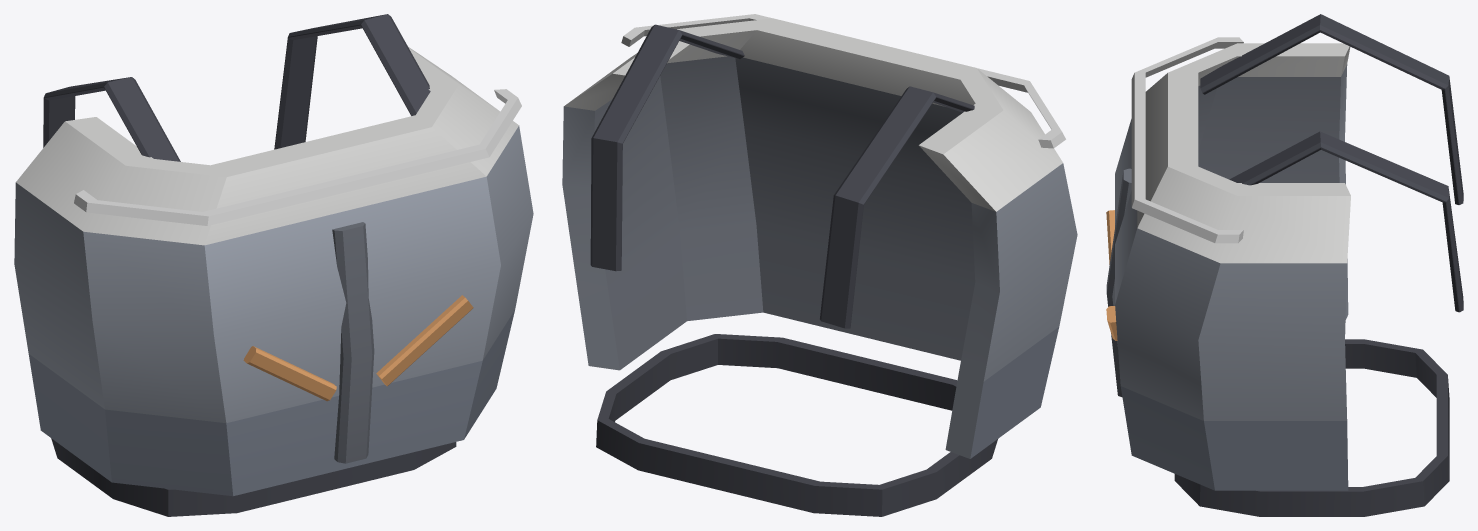
Rendered from gear_plastron.glb.
3 renders of one model, left to right at view 1: azimuth 30°, elevation 25°; view 2: azimuth 150°, elevation 25°; view 3: azimuth 270°, elevation 25°, orthographic. The views are drawn at different scales.
Visible parts, largest first — view 1: torso__plastron, torso__plastron_glow; view 2: torso__plastron, torso__plastron_glow; view 3: torso__plastron, torso__plastron_glow.
Boxes of the visible parts, <box> form: torso__plastron: <box>14,14,533,516</box>; torso__plastron_glow: <box>74,89,521,225</box>; torso__plastron: <box>562,18,1077,516</box>; torso__plastron_glow: <box>621,14,1065,148</box>; torso__plastron: <box>1106,14,1463,516</box>; torso__plastron_glow: <box>1131,37,1243,243</box>.
Size of the model in its own units: 0.344 by 0.288 by 0.2573.
